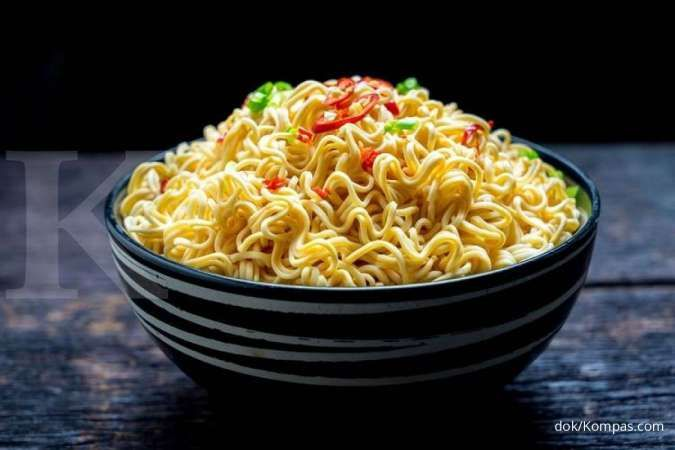Mie: (134, 62, 573, 315)
